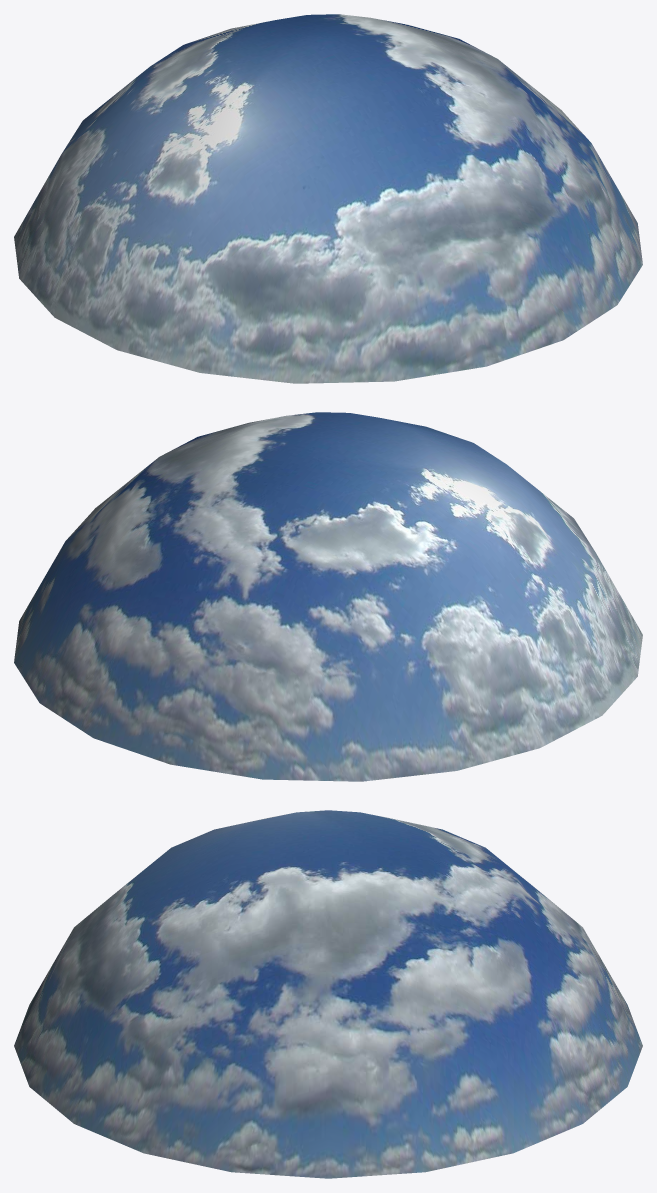
File: 5w028dwt8rxa.obj
3 renders of one model, top to bottom at view 1: azimuth 30°, elevation 25°; view 2: azimuth 150°, elevation 25°; view 3: azimuth 270°, elevation 25°, orthographic.
Visible parts, largest first — view 1: 5w028dwt8rxa; view 2: 5w028dwt8rxa; view 3: 5w028dwt8rxa.
Part boxes in pixels (<box>): 5w028dwt8rxa: <box>14,14,642,383</box>; 5w028dwt8rxa: <box>14,412,642,781</box>; 5w028dwt8rxa: <box>14,810,642,1178</box>.
Size of the model in its own units: 5.54 by 2.01 by 5.54.
1 material, 1 textured.
